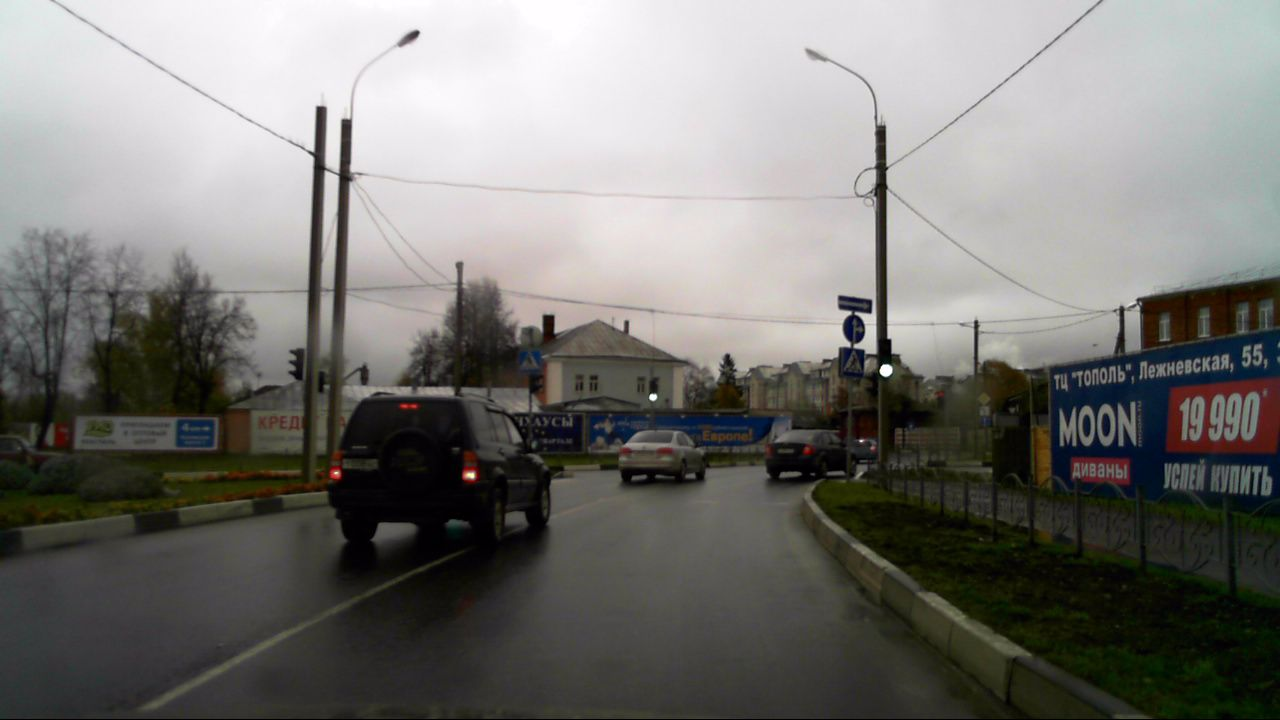One-Way Traffic: (837, 296, 873, 313)
Pedestrian Crossing: (841, 348, 865, 377)
